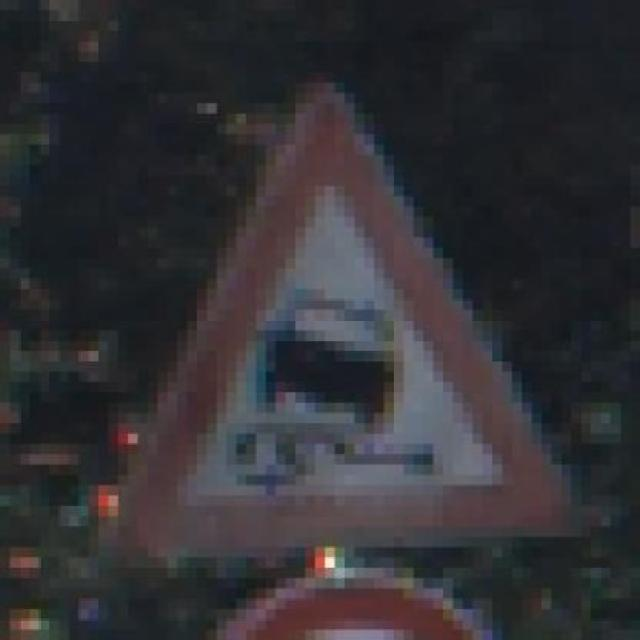Slippery Road Ahead: (59, 72, 581, 578)
